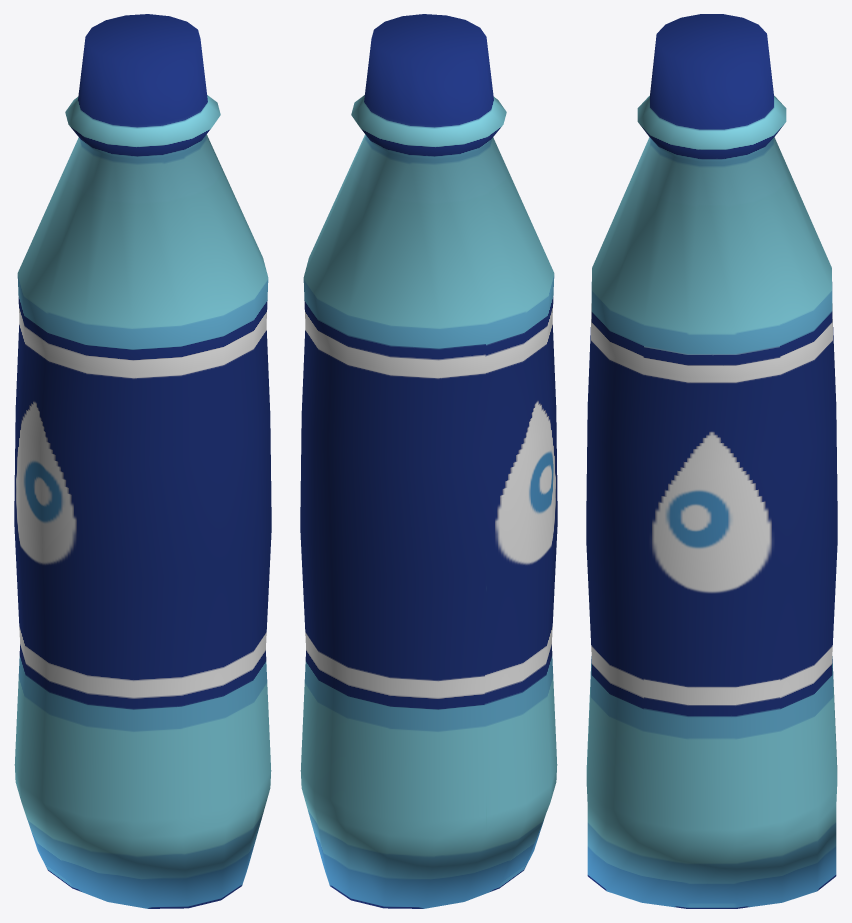
Rendered from smallbottle.fbx.
The picture shows the model from 3 angles, left to right: view 1: azimuth 30°, elevation 25°; view 2: azimuth 150°, elevation 25°; view 3: azimuth 270°, elevation 25°; orthographic projection.
Parts seen in each view (by area): view 1: Cylinder.004; view 2: Cylinder.004; view 3: Cylinder.004.
Part boxes in pixels (x1,y1,x2,y2): Cylinder.004: [14, 14, 271, 908]; Cylinder.004: [300, 14, 557, 908]; Cylinder.004: [586, 14, 837, 908].
Size of the model in its own units: 89.27 by 318 by 87.26.
